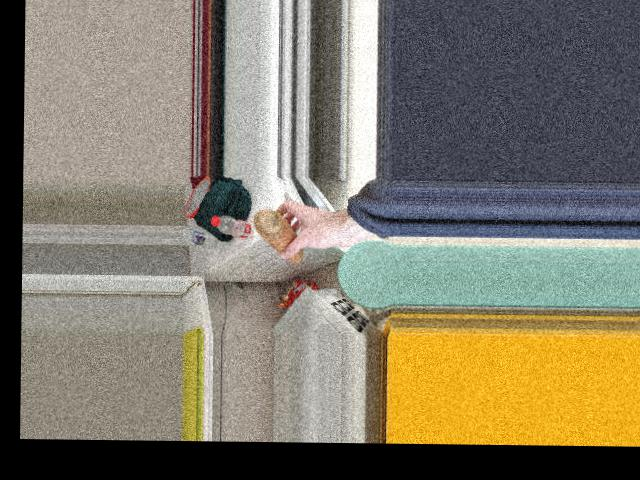sweet_potato: (254, 204, 303, 268)
